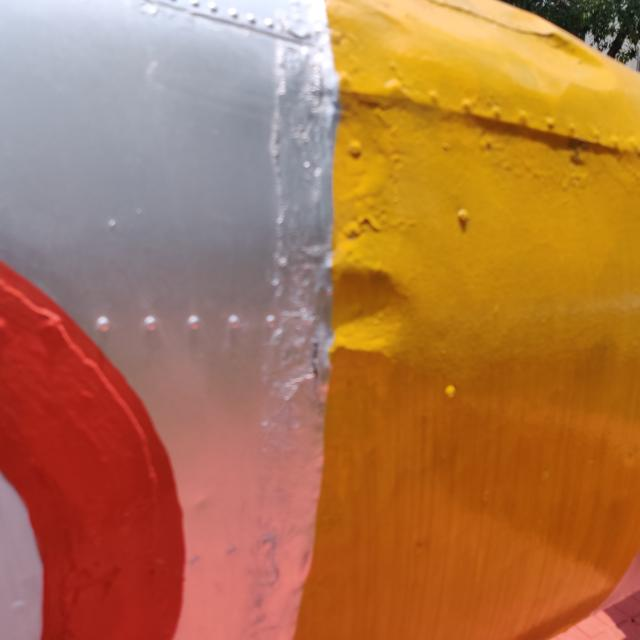dent: (277, 237, 433, 386)
